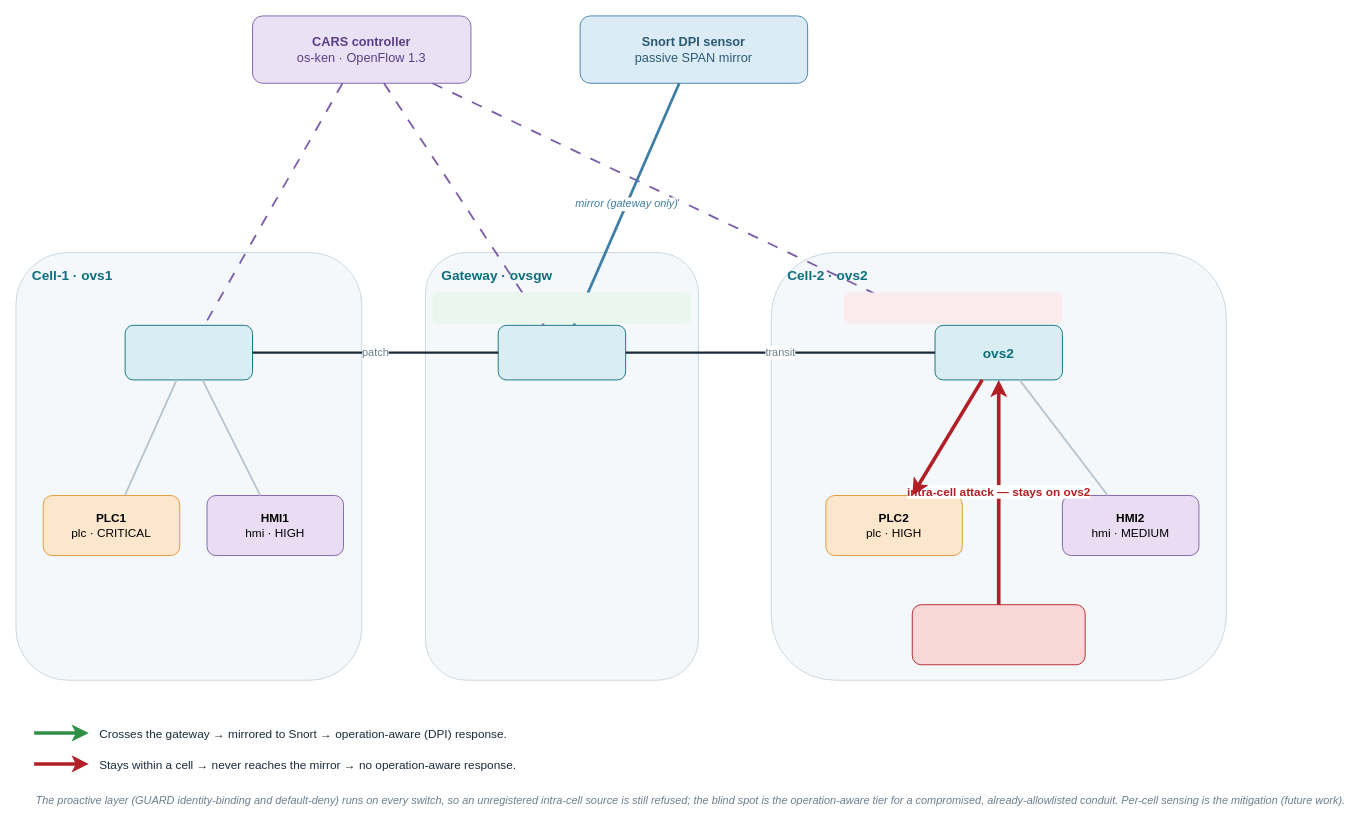
Image size: 1361x840. Some labels were removed from this diagram. Here are the shapes that lost their labels. From the top down, the centre of each, then its label:
At (561,307): "crosses here → mirrored → DPI sees".
At (953,307): "not mirrored → DPI blind".
At (188,352): "ovs1".
At (561,352): "ovsgw".
At (998,634): "in-cell attacker compromised / foothold".
